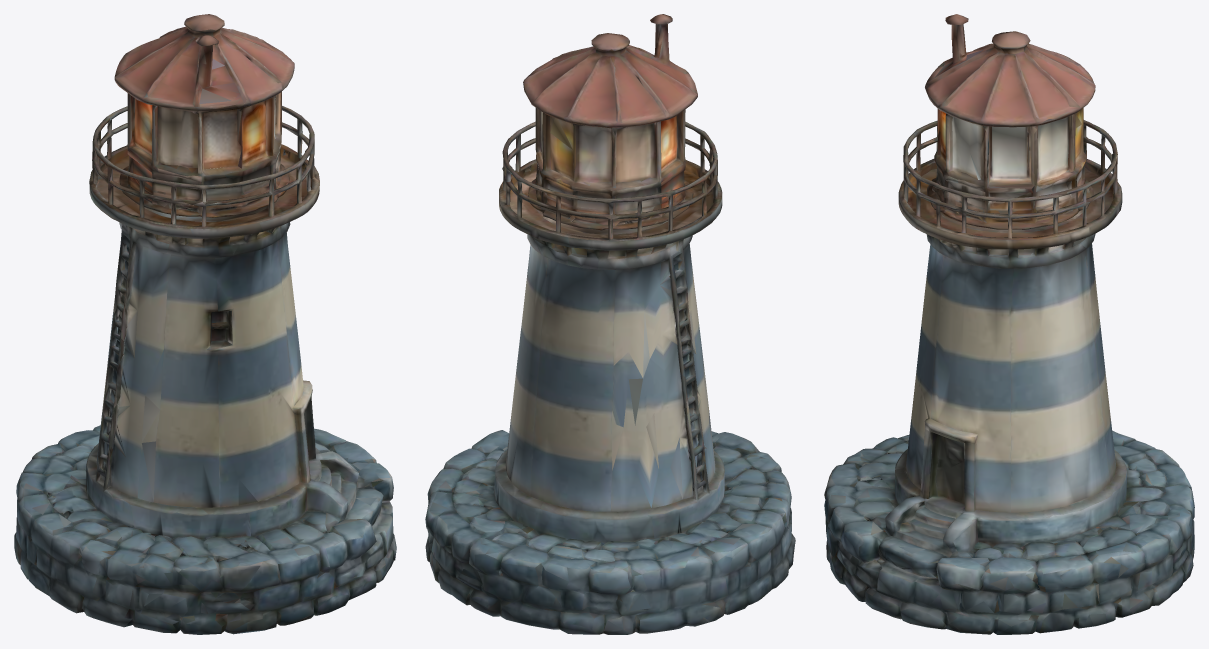
The model's file is sc-ferry-beacon.glb.
The picture shows the model from 3 angles, left to right: view 1: azimuth 30°, elevation 25°; view 2: azimuth 150°, elevation 25°; view 3: azimuth 270°, elevation 25°; orthographic projection. The views are drawn at different scales.
Parts seen in each view (by area): view 1: geometry_0; view 2: geometry_0; view 3: geometry_0.
Boxes of the visible parts, x1,y1,x2,y2 form: geometry_0: (14,14,396,634); geometry_0: (425,14,795,634); geometry_0: (824,14,1194,634).
Size of the model in its own units: 0.6273 by 1.01 by 0.6343.
Materials: 1 (1 with a texture image).
